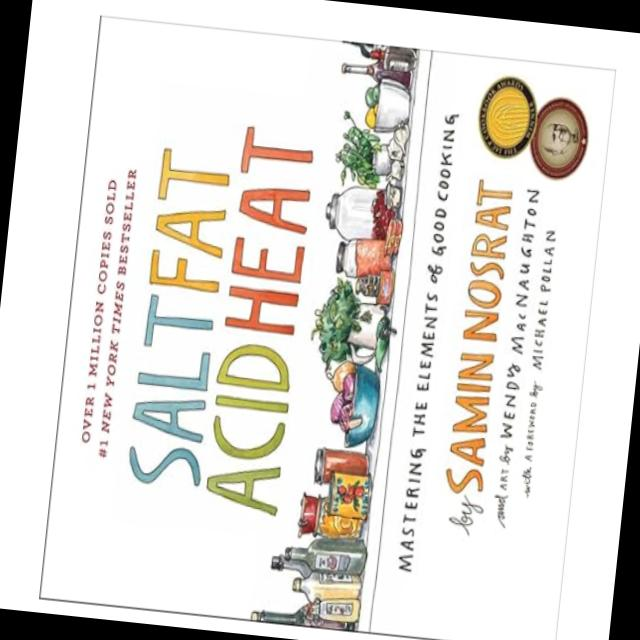titles-or-authors: (110, 108, 326, 533), (436, 172, 518, 499)
